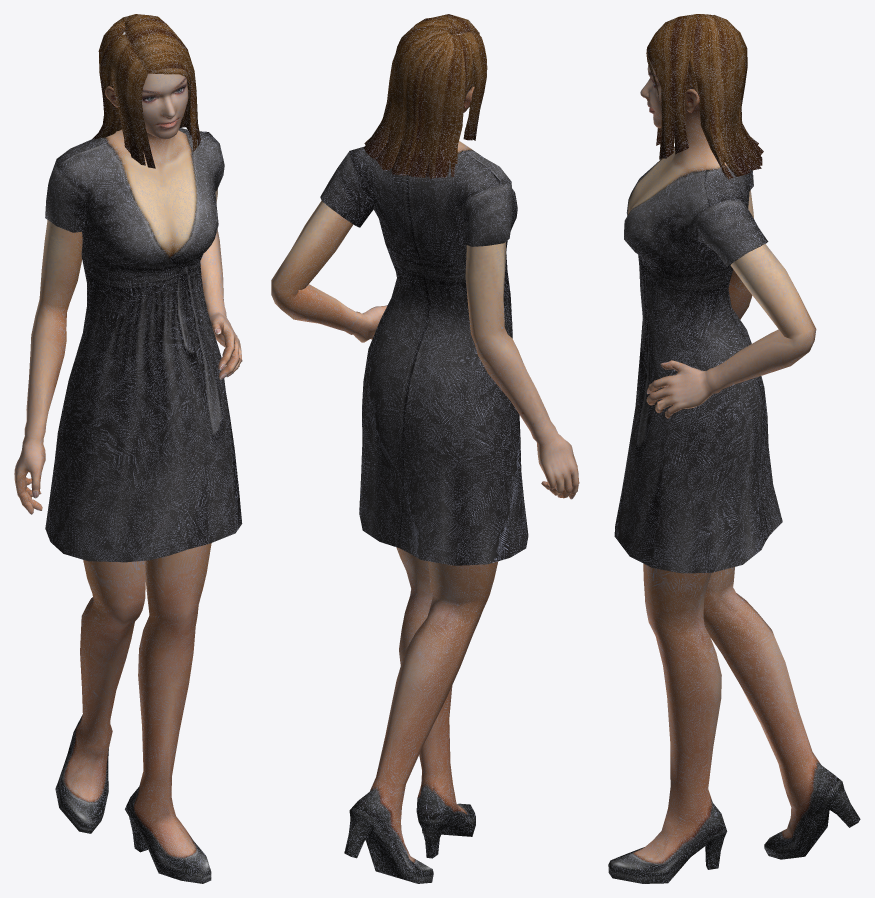
Rendered from human.dae.
The picture shows the model from 3 angles, left to right: view 1: azimuth 30°, elevation 25°; view 2: azimuth 150°, elevation 25°; view 3: azimuth 270°, elevation 25°; orthographic projection.
Visible parts, largest first — view 1: objpolySur (×7); view 2: objpolySur (×6); view 3: objpolySur (×7).
Part boxes in pixels (x1,y1,x2,y2): objpolySur (×7): [14, 14, 242, 883]; objpolySur (×6): [271, 14, 579, 883]; objpolySur (×7): [608, 14, 860, 883].
Bounding box in the file's own units: 53.04 × 45.25 × 168.
